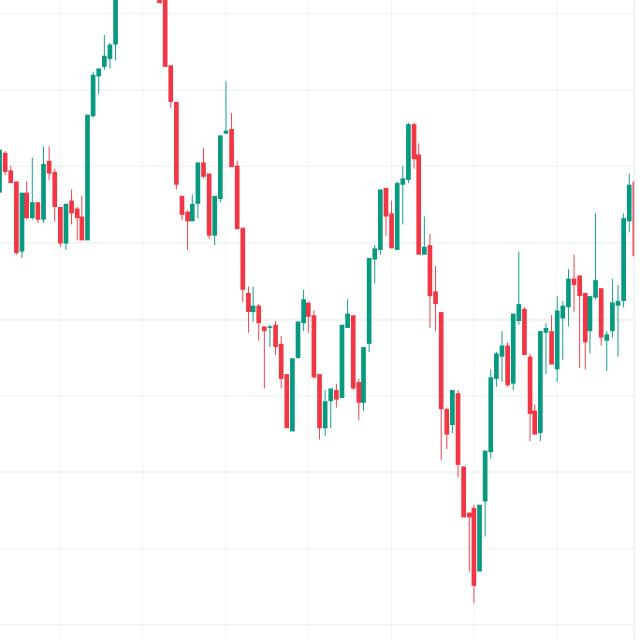Triple-Bottom: (254, 278, 396, 453)
